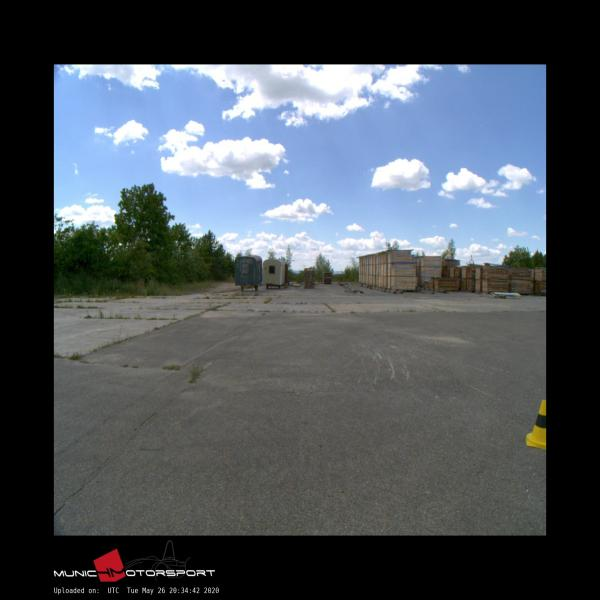yellow_cone: (525, 399, 546, 449)
